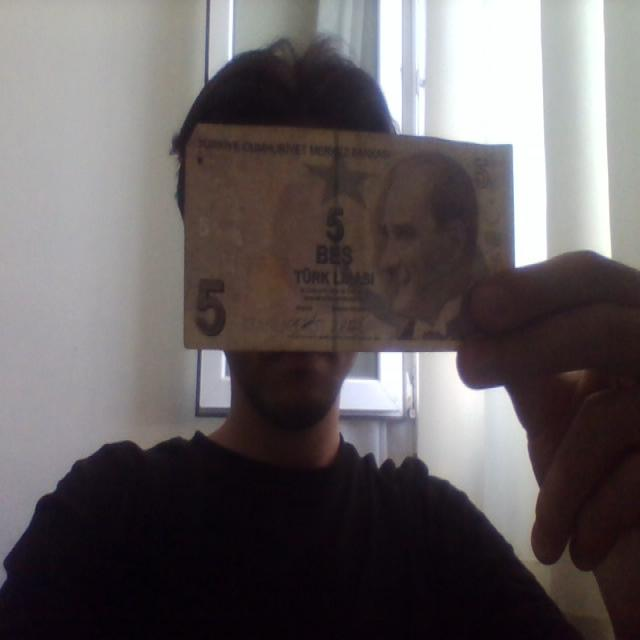5-TL: (192, 125, 516, 352)
